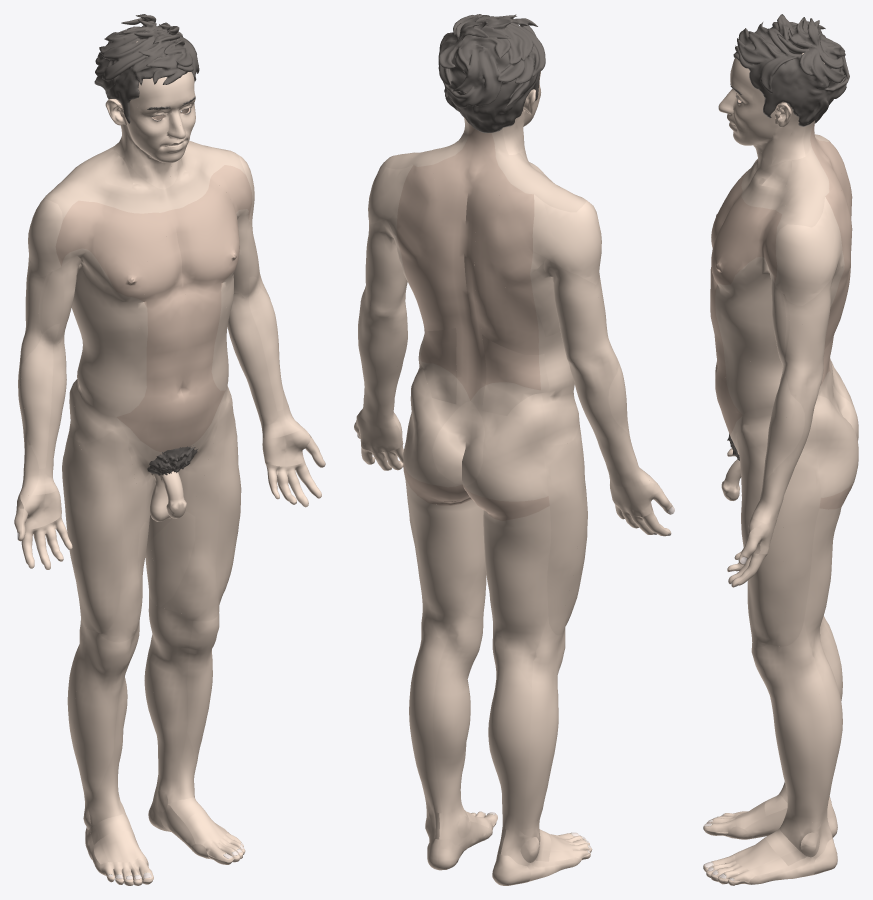
Rendered from skin_regions.glb.
The picture shows the model from 3 angles, left to right: view 1: azimuth 30°, elevation 25°; view 2: azimuth 150°, elevation 25°; view 3: azimuth 270°, elevation 25°; orthographic projection. The views are drawn at different scales.
Visible parts, largest first — view 1: Anterior region of thigh (R), Anterior region of thigh (L), Hairs of head, Anterior region of leg (L), Anterior region of leg (R), Pectoral region (R), Deltoid region (R), Anterior region of forearm (L), Anterior region of forearm (R), Lateral region of thorax (R), Lateral region of abdomen (R), Pectoral region (L) (+46 smaller); view 2: Posterior region of thigh (R), Hairs of head, Gluteal region (R), Posterior region of thigh (L), Posterior region of leg (R), Posterior region of leg (L), Gluteal region (L), Scapular region (R), Posterior region of arm (R), Infrascapular region (R), Scapular region (L), Posterior region of forearm (R) (+32 smaller); view 3: Hairs of head, Anterior region of thigh (L), Posterior region of thigh (L), Deltoid region (L), Gluteal region (L), Posterior region of leg (L), Lateral region of thorax (L), Anterior region of leg (L), Lateral region of abdomen (L), Pectoral region (L), Posterior region of arm (L), Posterior region of neck (L) (+45 smaller).
Part boxes in pixels (x1,y1,x2,y2): Anterior region of thigh (R): (69, 382, 154, 636); Anterior region of thigh (L): (150, 383, 241, 615); Hairs of head: (94, 14, 199, 123); Anterior region of leg (L): (153, 654, 212, 780); Anterior region of leg (R): (74, 674, 127, 799); Pectoral region (R): (94, 205, 174, 302); Deltoid region (R): (28, 174, 90, 271); Anterior region of forearm (L): (228, 304, 292, 425); Anterior region of forearm (R): (22, 360, 66, 481); Lateral region of thorax (R): (71, 225, 147, 333); Lateral region of abdomen (R): (77, 342, 147, 422); Pectoral region (L): (183, 179, 238, 284); Posterior region of thigh (R): (483, 496, 579, 640); Hairs of head: (438, 14, 545, 133); Gluteal region (R): (462, 392, 567, 518); Posterior region of thigh (L): (403, 471, 485, 624); Posterior region of leg (R): (488, 688, 555, 830); Posterior region of leg (L): (409, 667, 468, 813); Gluteal region (L): (403, 360, 470, 501); Scapular region (R): (486, 191, 559, 287); Posterior region of arm (R): (543, 242, 606, 348); Infrascapular region (R): (475, 273, 545, 354); Scapular region (L): (379, 164, 436, 266); Posterior region of forearm (R): (570, 368, 640, 475); Hairs of head: (733, 14, 849, 126); Anterior region of thigh (L): (738, 407, 787, 646); Posterior region of thigh (L): (783, 506, 841, 645); Deltoid region (L): (763, 197, 834, 297); Gluteal region (L): (798, 395, 858, 509); Posterior region of leg (L): (798, 679, 842, 822); Lateral region of thorax (L): (715, 229, 846, 343); Anterior region of leg (L): (770, 696, 806, 822); Lateral region of abdomen (L): (723, 347, 782, 414); Pectoral region (L): (711, 197, 769, 291); Posterior region of arm (L): (799, 248, 839, 364); Posterior region of neck (L): (784, 120, 834, 199).
Bounding box in the file's own units: 0.6962 × 1.79 × 0.301.
